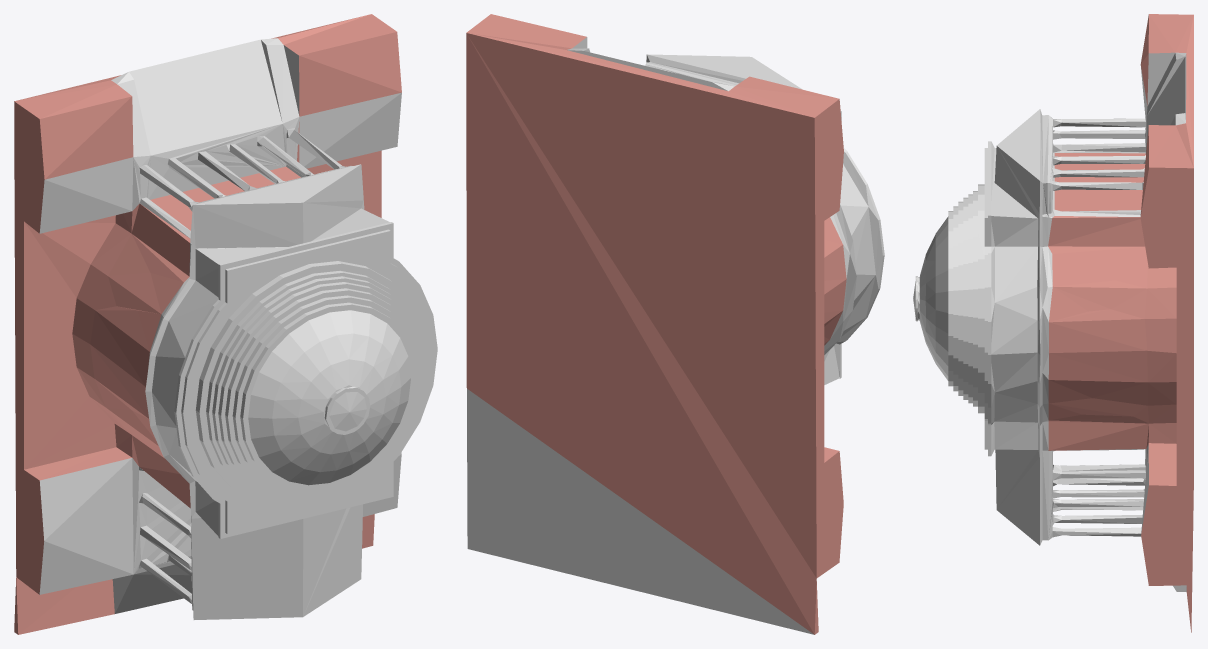
The model's file is rotundaSmall.glb.
The picture shows the model from 3 angles, left to right: view 1: azimuth 30°, elevation 25°; view 2: azimuth 150°, elevation 25°; view 3: azimuth 270°, elevation 25°; orthographic projection. The views are drawn at different scales.
Parts seen in each view (by area): view 1: building.001, building.004; view 2: building.001, building.004; view 3: building.001, building.004.
Boxes of the visible parts, box(x1,y1,x2,y2) form: building.001: box(14, 14, 401, 634); building.004: box(174, 222, 437, 538); building.001: box(466, 14, 882, 634); building.004: box(839, 111, 884, 378); building.001: box(991, 14, 1193, 632); building.004: box(913, 141, 991, 456).
Size of what is drawn, in the model's own units: 1.02 by 1.47 by 0.7917.
